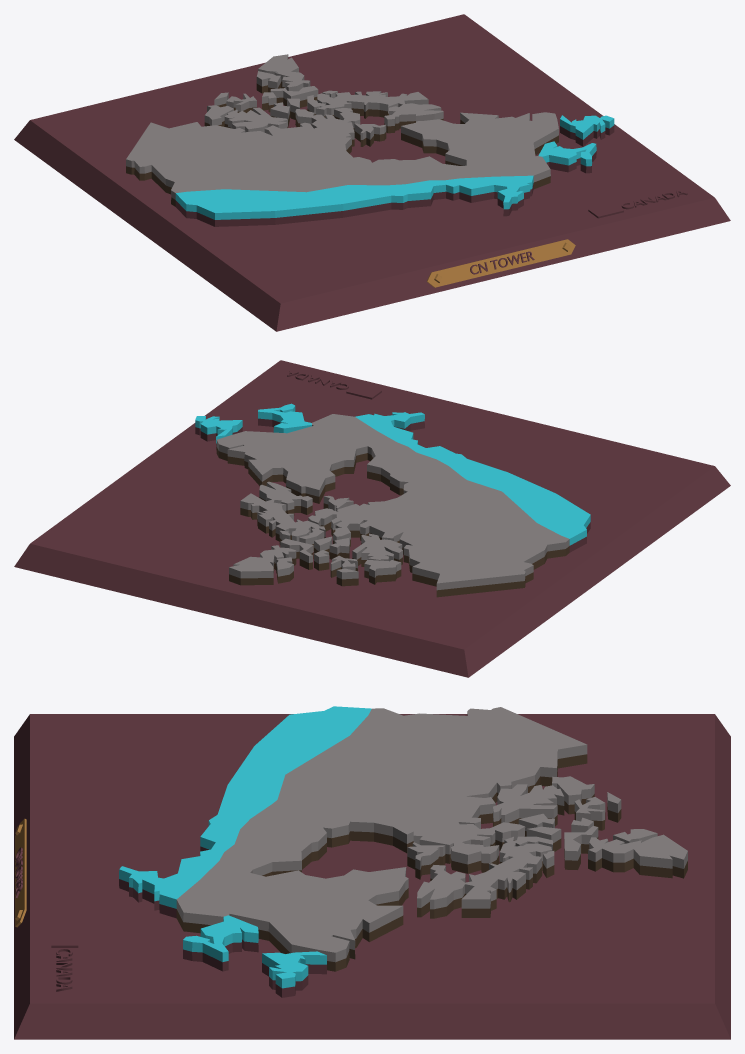
File: SM_Island_CNTower_Landmark.fbx
3 views of the same model, one above another, from view 1: azimuth 30°, elevation 25°; view 2: azimuth 150°, elevation 25°; view 3: azimuth 270°, elevation 25° (orthographic). The views are drawn at different scales.
Parts seen in each view (by area): view 1: Island_CNTower_Landmark; view 2: Island_CNTower_Landmark; view 3: Island_CNTower_Landmark.
Boxes of the visible parts, <box> form: Island_CNTower_Landmark: <box>14,14,730,331</box>; Island_CNTower_Landmark: <box>14,360,730,677</box>; Island_CNTower_Landmark: <box>14,706,730,1039</box>.
Bounding box in the file's own units: 68.5 × 5.09 × 68.5.
